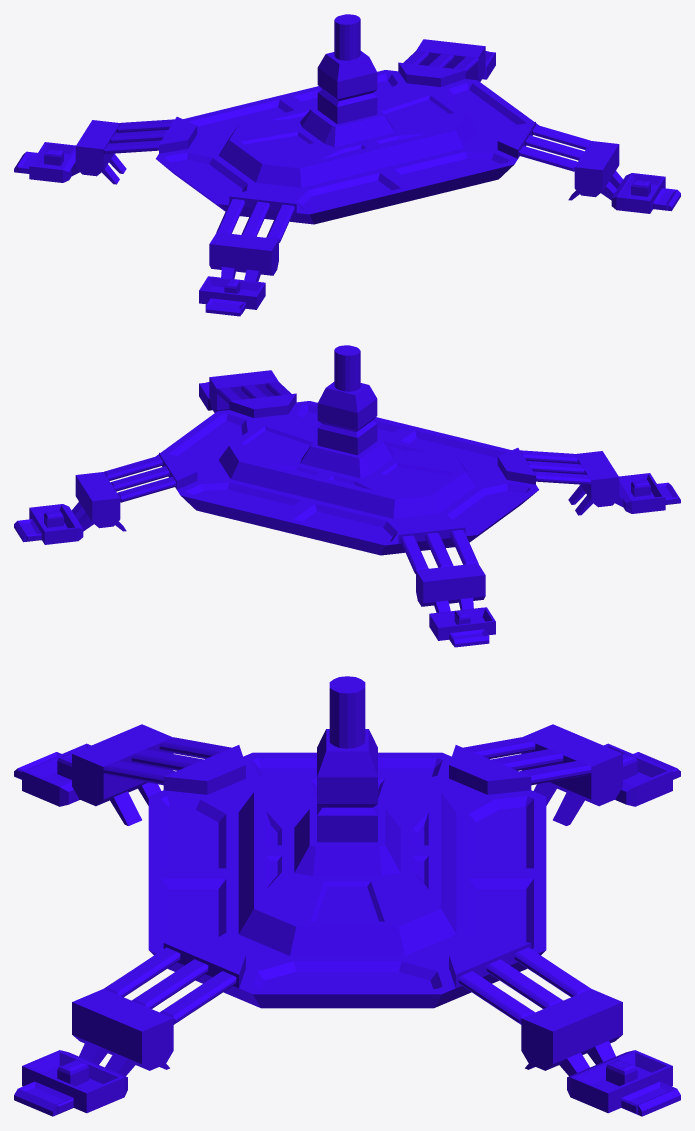
The model's file is Powerplant_Model_Enemy_GroundTurretBody.fbx.
3 renders of one model, top to bottom at view 1: azimuth 30°, elevation 25°; view 2: azimuth 150°, elevation 25°; view 3: azimuth 270°, elevation 25°, orthographic. The views are drawn at different scales.
Parts seen in each view (by area): view 1: Body_Base; view 2: Body_Base; view 3: Body_Base.
Part boxes in pixels (<box>): Body_Base: <box>14,14,680,316</box>; Body_Base: <box>14,345,680,647</box>; Body_Base: <box>14,676,680,1116</box>.
Size of the model in its own units: 135 by 44.76 by 107.
